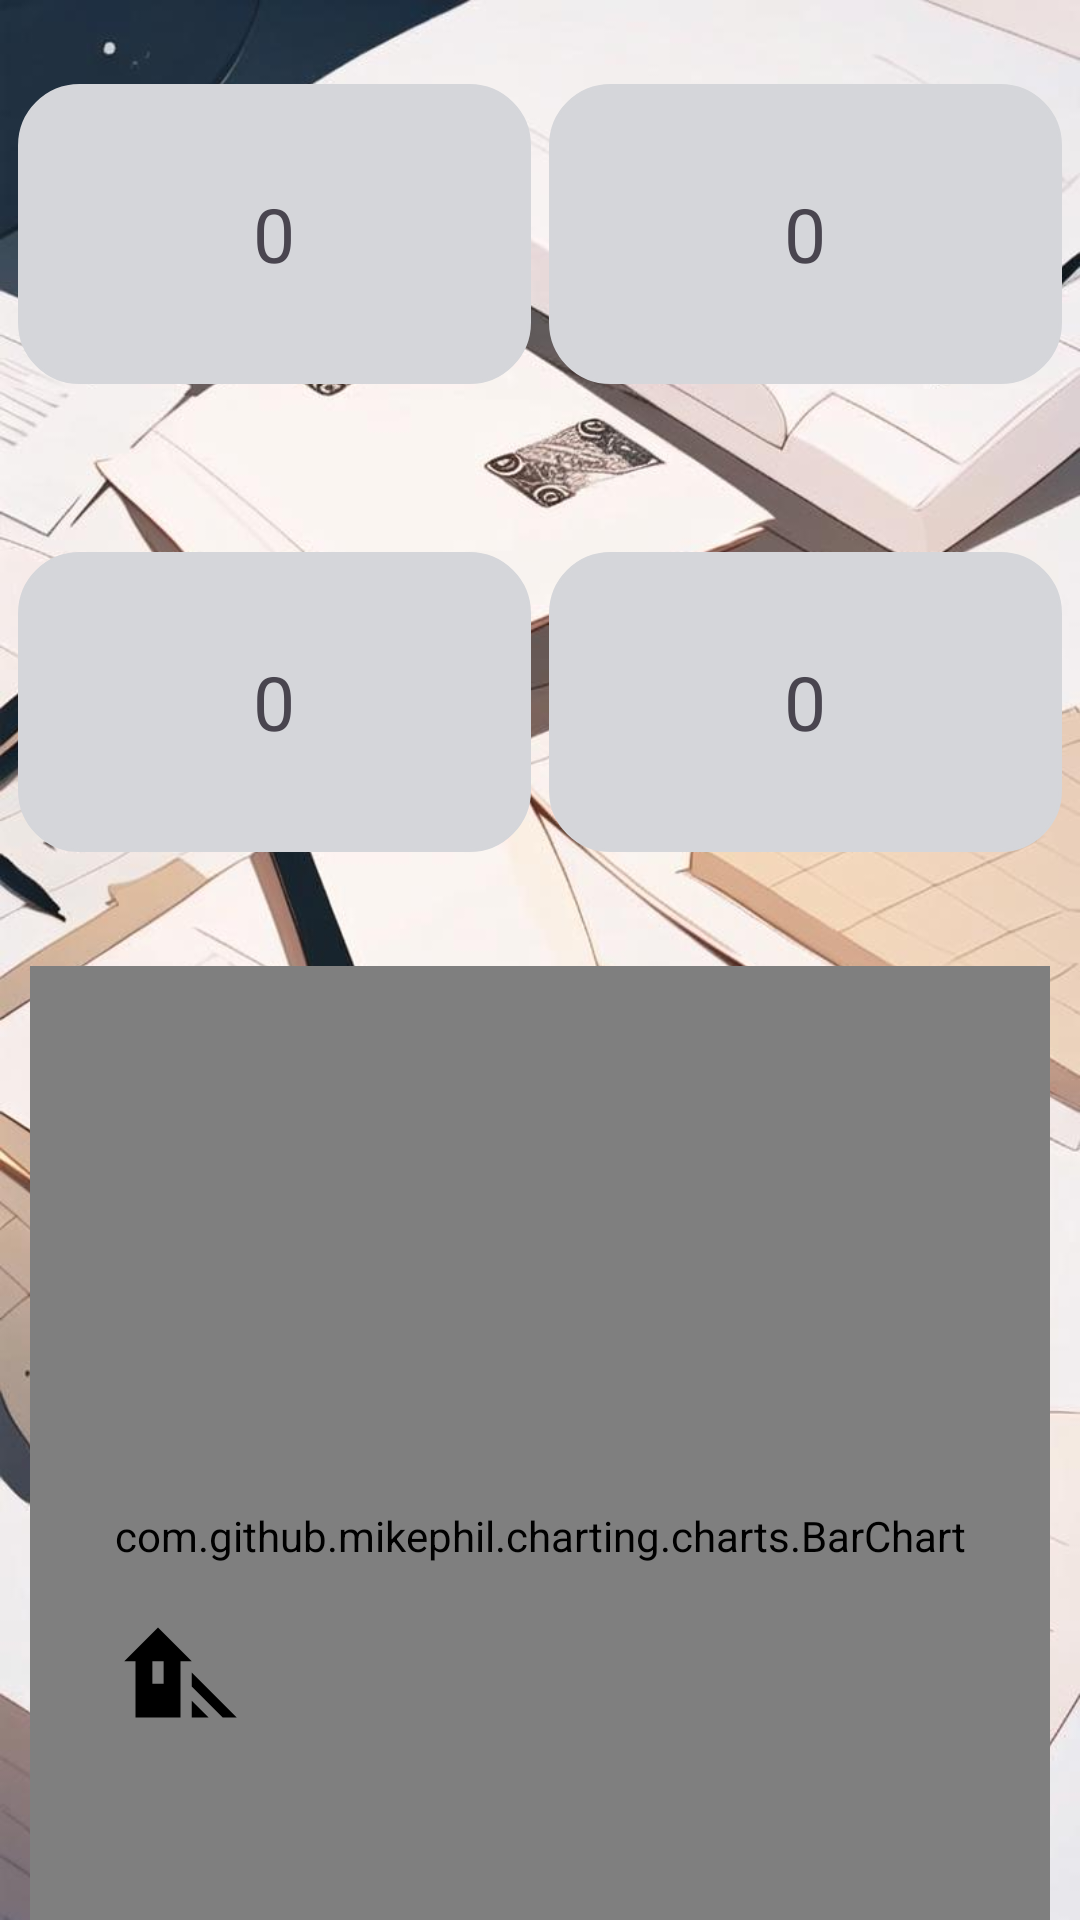

Point at icon controls on the screen. Image size 1080x1920, points as (x=x, y=y).
homepage: (x=181, y=1673)
